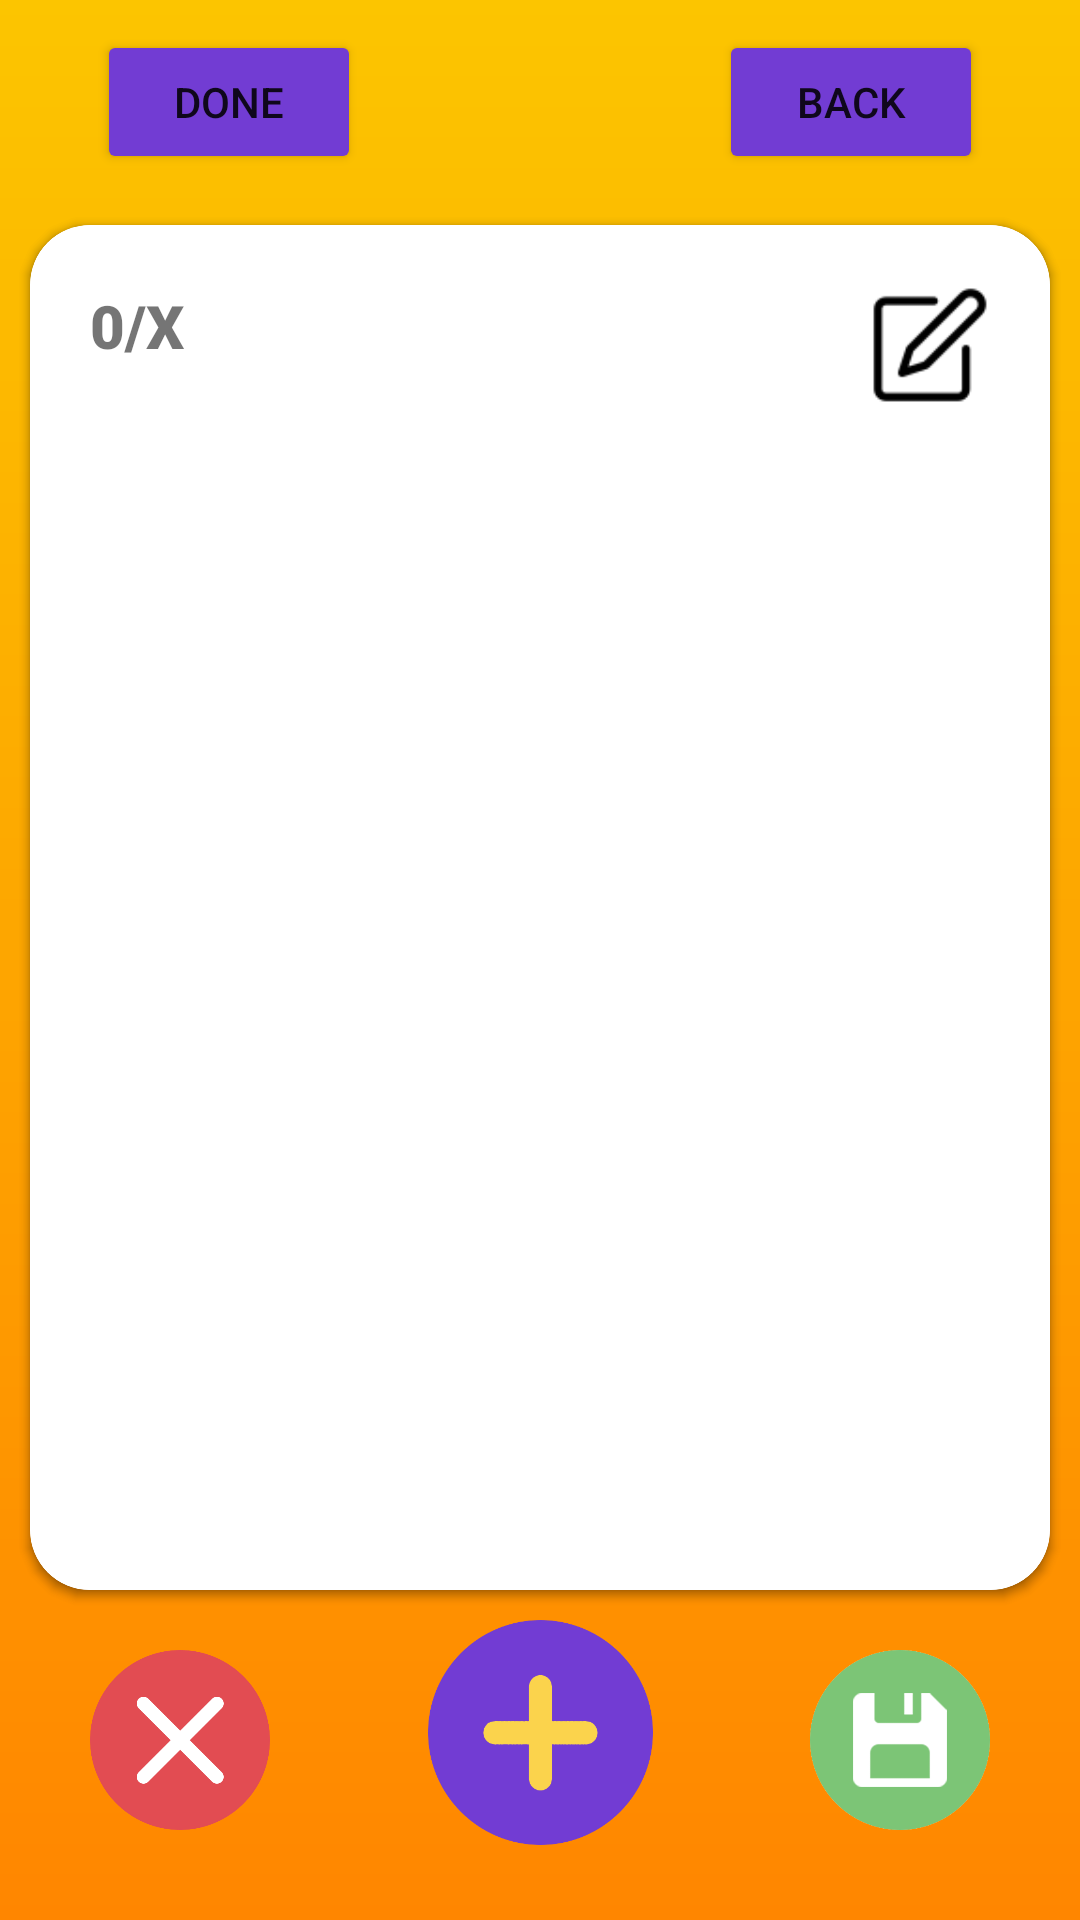

Icons on this 1080px x 1920px Android screen, each with its box as (x1=x1, y1=y1, x2=x2, y2=y2):
add: (x1=428, y1=1620, x2=653, y2=1845)
cancel: (x1=90, y1=1650, x2=270, y2=1830)
save: (x1=810, y1=1650, x2=990, y2=1830)
